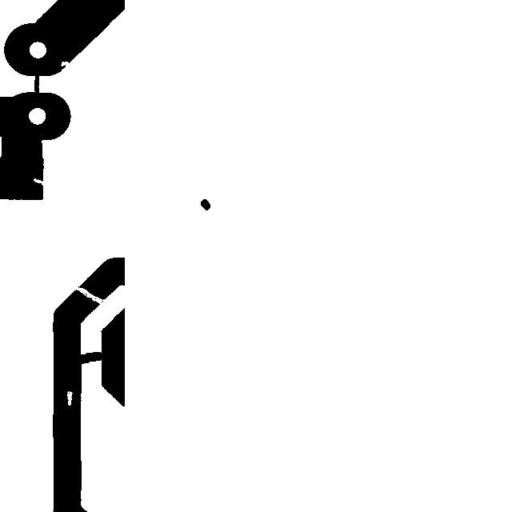copper: (193, 191, 218, 218)
mousebite: (26, 170, 52, 193), (53, 54, 77, 75)
open: (68, 278, 113, 311)
pin-hole: (59, 383, 80, 413)
short: (67, 344, 110, 371), (26, 66, 46, 103)
